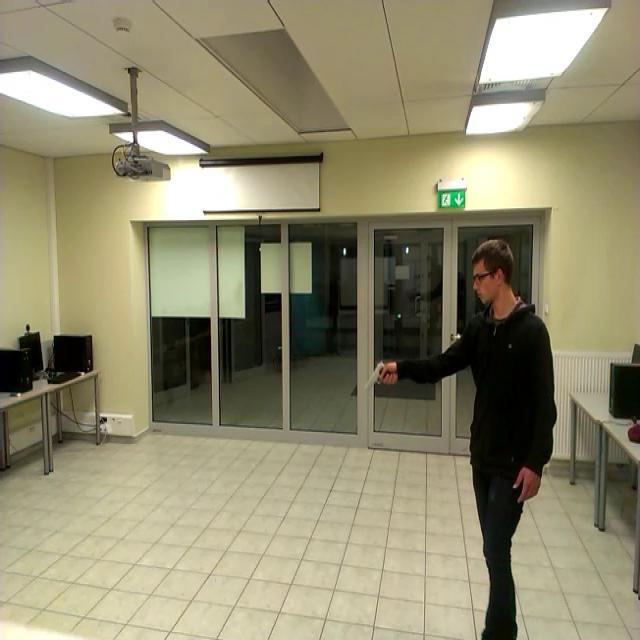Gun: (341, 348, 414, 417)
